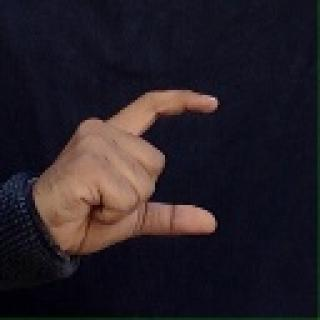C: (45, 75, 235, 271)
